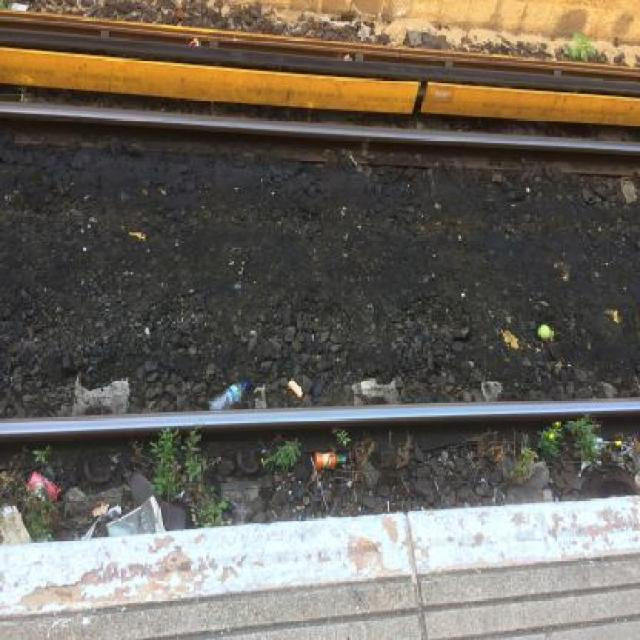Garbage: (131, 472, 193, 530), (106, 495, 166, 537), (80, 505, 122, 539), (208, 380, 249, 410), (0, 508, 31, 545), (25, 471, 60, 500), (311, 457, 328, 511), (314, 452, 345, 469), (351, 18, 371, 41), (593, 437, 621, 451), (288, 379, 303, 398), (1, 505, 16, 520), (538, 325, 550, 340), (188, 38, 199, 46), (344, 54, 353, 60), (432, 323, 438, 331), (298, 513, 302, 520), (319, 487, 324, 492), (251, 331, 255, 334)
